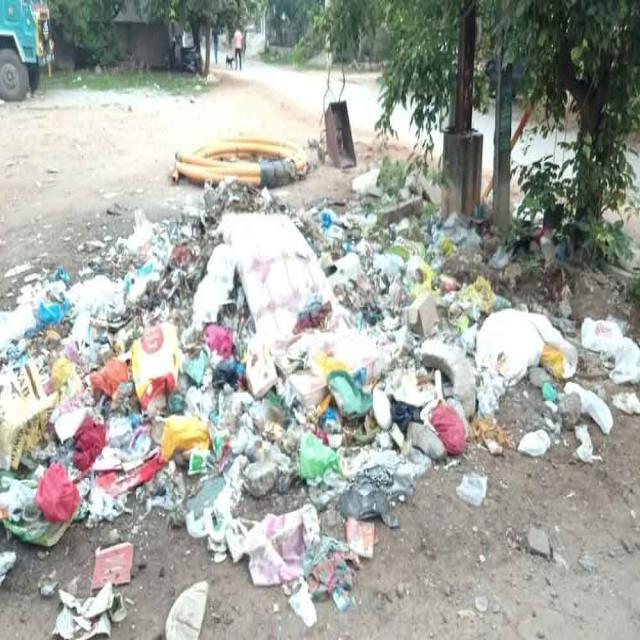garbage: (0, 114, 640, 637)
